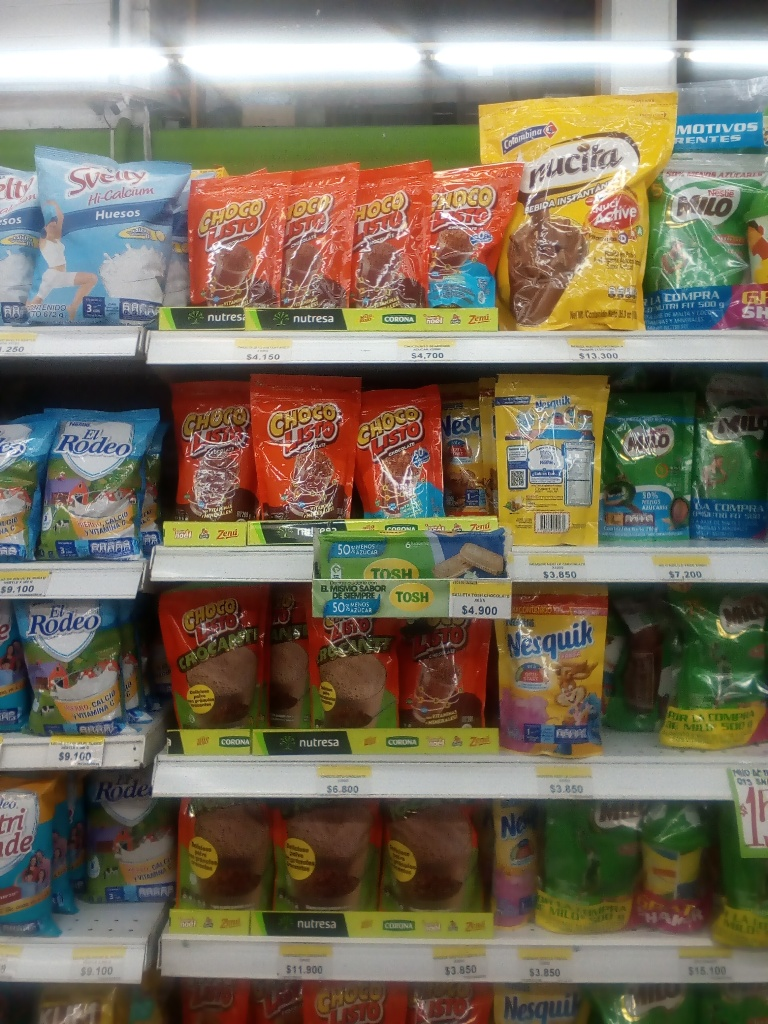COL0170102DYP25000: (165, 583, 271, 726)
COL0170102DYP50000: (178, 797, 269, 910)
COL0170103DYP20000: (190, 169, 280, 307)
COL0170104DYP20000: (426, 157, 524, 309)
COL0170203DYP50000: (536, 796, 635, 930)
COL0170205DYP20000: (600, 379, 696, 543)
COL0170205DYP50000: (639, 150, 765, 308)
COL0170303DYP20000: (489, 372, 603, 547)
COL0170305DYP20000: (487, 805, 537, 928)
